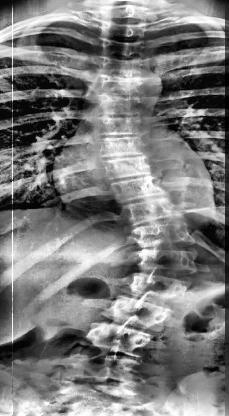Vertebrae: (62, 354, 144, 392), (84, 322, 156, 362), (100, 297, 172, 333), (117, 272, 191, 306), (126, 221, 198, 251), (132, 247, 196, 278), (105, 174, 168, 204), (118, 196, 180, 224), (97, 156, 154, 182), (96, 56, 150, 82), (90, 74, 146, 98), (92, 115, 148, 137), (94, 136, 150, 158), (92, 95, 146, 117), (98, 20, 150, 42), (99, 37, 149, 59), (100, 3, 150, 23)
